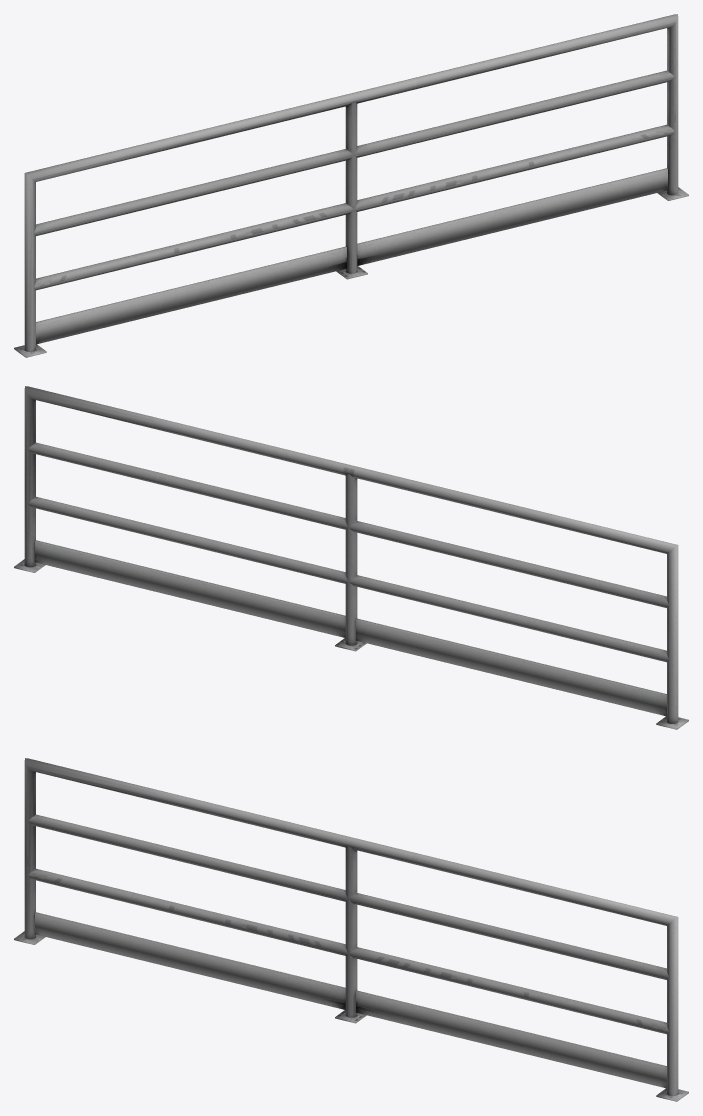
3 views of the same model, one above another, from view 1: azimuth 30°, elevation 25°; view 2: azimuth 150°, elevation 25°; view 3: azimuth 330°, elevation 25° (orthographic).
Visible parts, largest first — view 1: body0_model0_lod0_mesh0; view 2: body0_model0_lod0_mesh0; view 3: body0_model0_lod0_mesh0.
Boxes of the visible parts, box(x1,y1,x2,y2) form: body0_model0_lod0_mesh0: box(14, 14, 688, 357); body0_model0_lod0_mesh0: box(14, 386, 688, 729); body0_model0_lod0_mesh0: box(14, 758, 688, 1101).
Size of the model in its own units: 128 by 33 by 4.
1 material, 1 textured.
